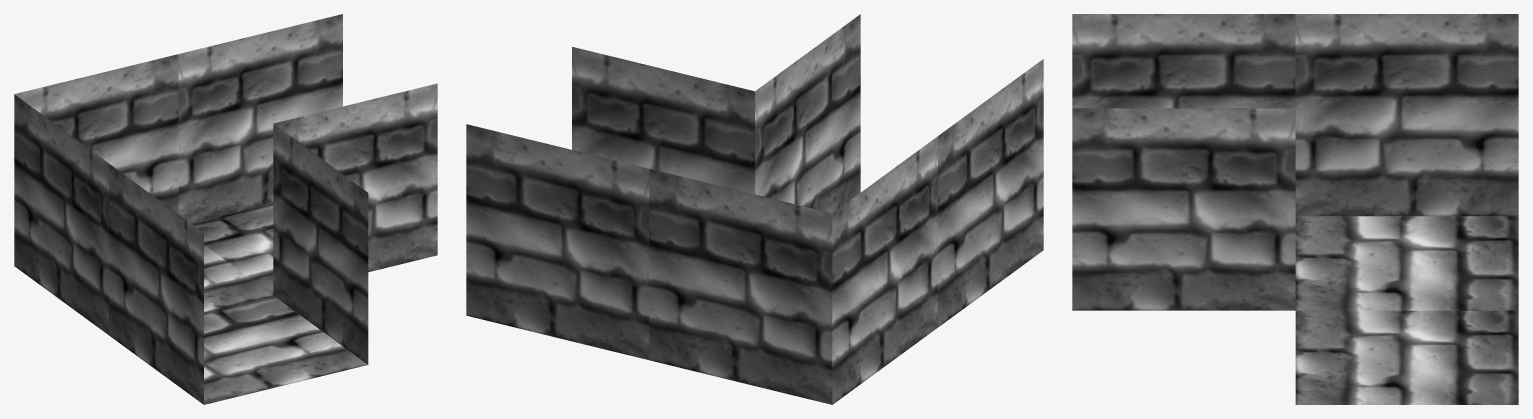
The model's file is zamek_L1.fbx.
3 views of the same model, side by side, from view 1: azimuth 30°, elevation 25°; view 2: azimuth 150°, elevation 25°; view 3: azimuth 270°, elevation 25° (orthographic). The views are drawn at different scales.
Parts seen in each view (by area): view 1: Plane.174; view 2: Plane.174; view 3: Plane.174.
Part boxes in pixels (x1,y1,x2,y2): Plane.174: [14, 14, 437, 404]; Plane.174: [466, 14, 1043, 404]; Plane.174: [1072, 14, 1518, 404].
Bounding box in the file's own units: 800 × 400 × 800.
Materials: 3 (2 with a texture image).
